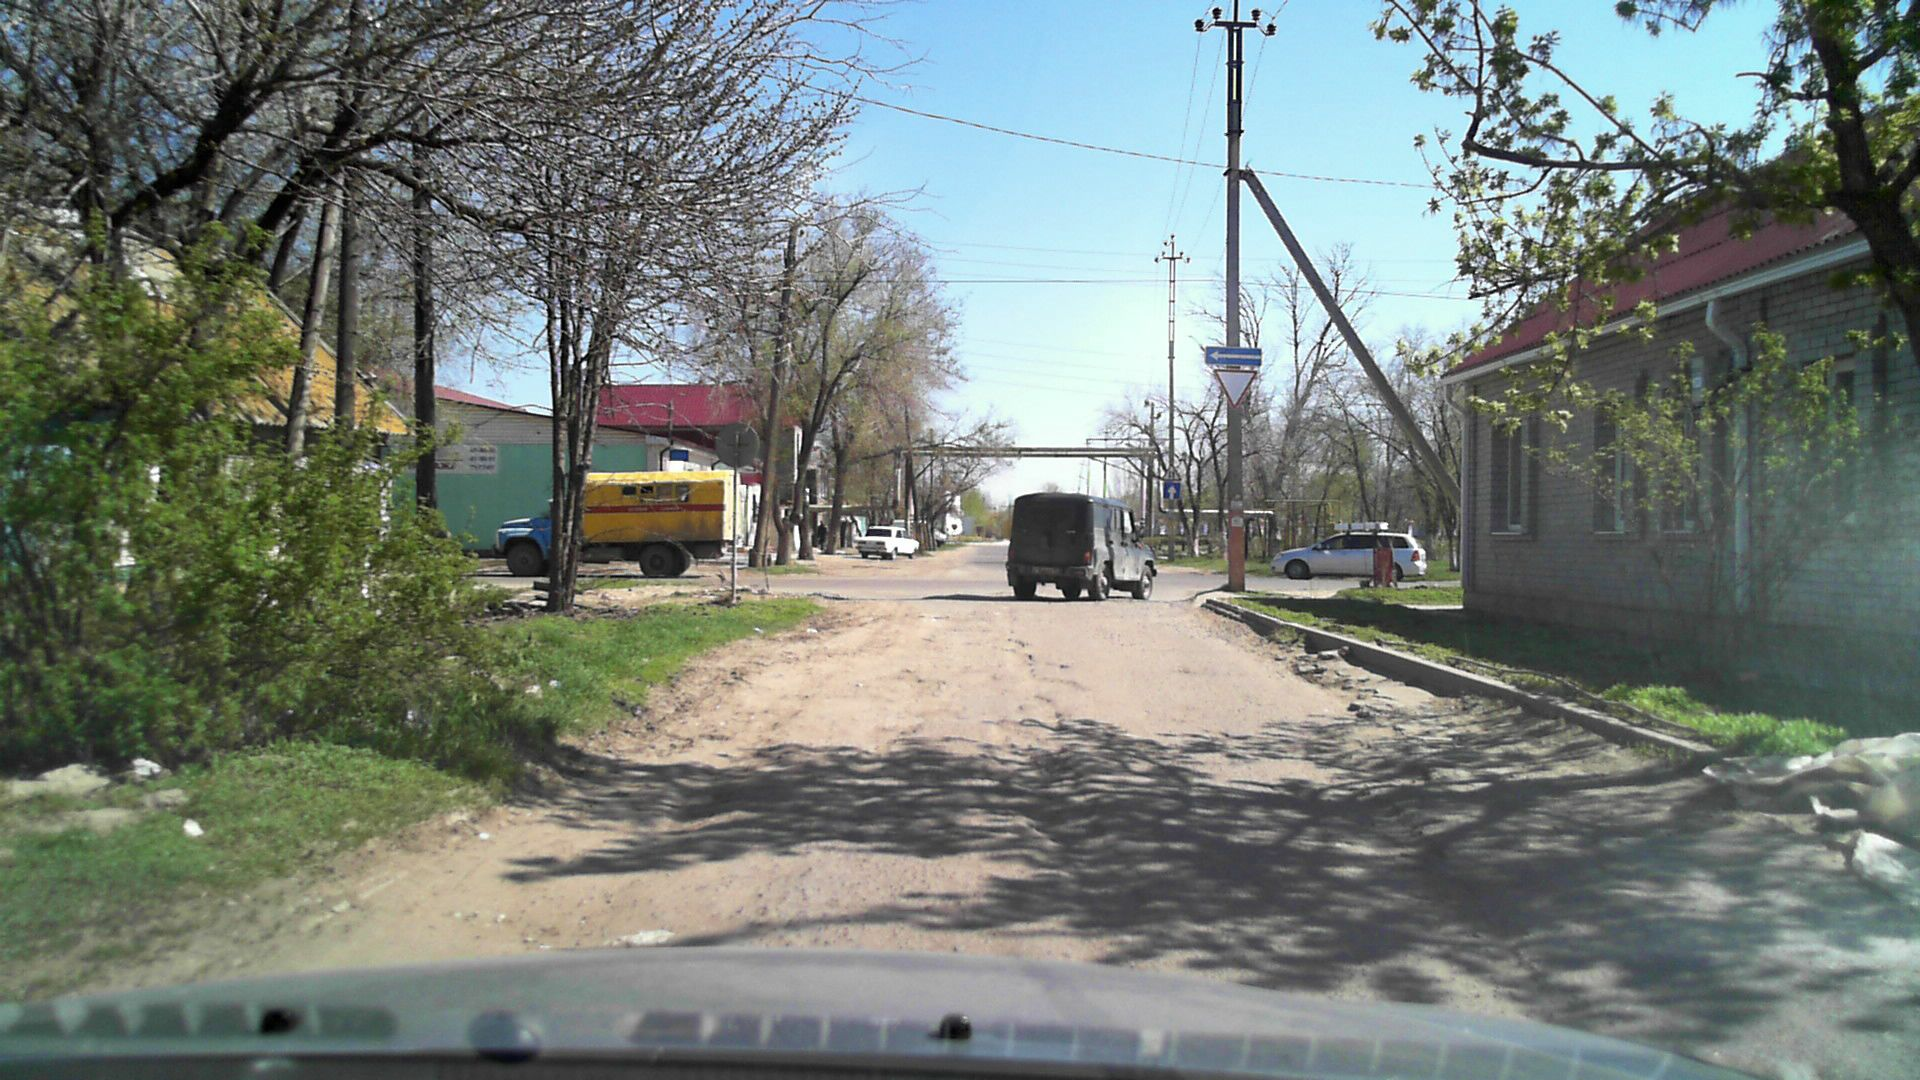One-Way Traffic: (1205, 345, 1262, 367)
